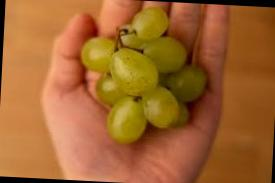Grape Rotten: (75, 2, 210, 148)
